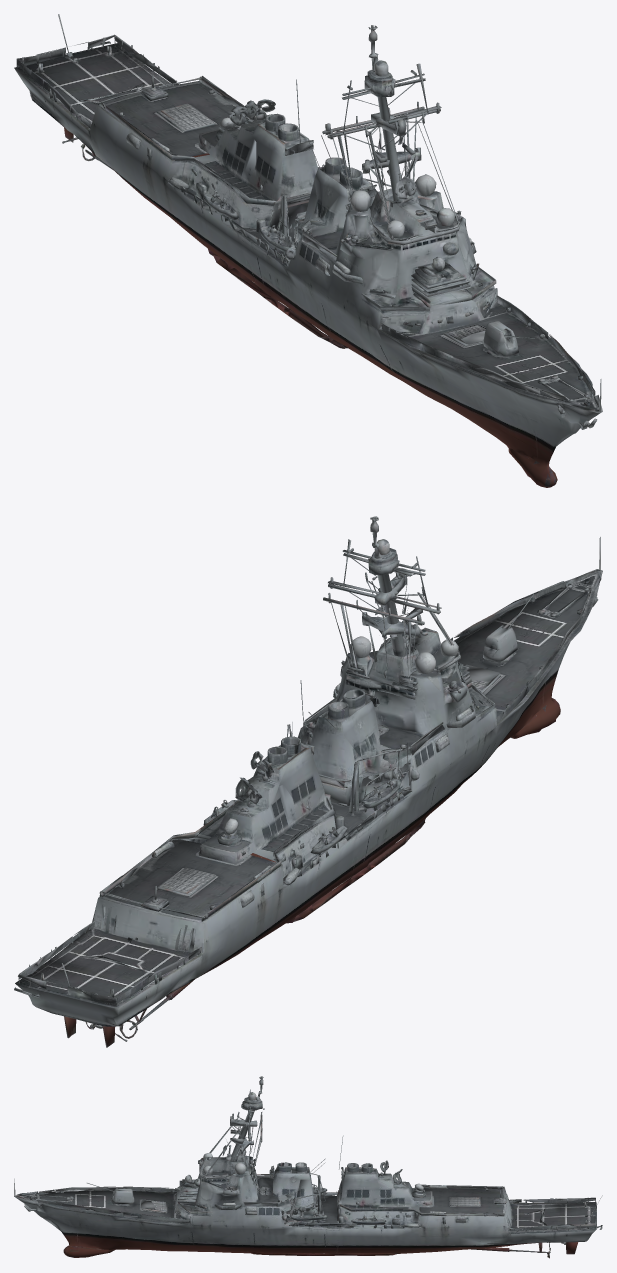
Rendered from destroyer.glb.
The picture shows the model from 3 angles, top to bottom: view 1: azimuth 30°, elevation 25°; view 2: azimuth 150°, elevation 25°; view 3: azimuth 270°, elevation 25°; orthographic projection. The views are drawn at different scales.
Parts seen in each view (by area): view 1: hull; view 2: hull; view 3: hull.
Boxes of the visible parts, box(x1,y1,x2,y2) form: hull: box(14, 14, 602, 487); hull: box(14, 516, 602, 1047); hull: box(14, 1076, 602, 1258).
Bounding box in the file's own units: 21.97 × 52.53 × 155.
Materials: 3 (3 with a texture image).
